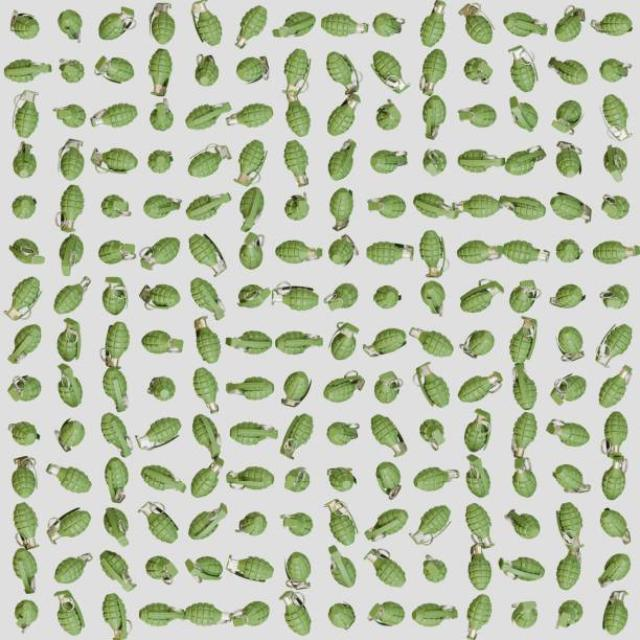grenade: (188, 233, 233, 280), (411, 361, 454, 410), (45, 507, 95, 549), (362, 547, 411, 589), (279, 413, 317, 462), (46, 462, 96, 499), (370, 413, 410, 459), (224, 553, 278, 587), (186, 502, 229, 544), (225, 462, 277, 496), (361, 326, 409, 361), (54, 362, 88, 411), (192, 315, 223, 367), (191, 366, 223, 416), (223, 375, 279, 403), (368, 238, 418, 267), (276, 240, 327, 267), (54, 418, 90, 456), (328, 321, 361, 361), (458, 330, 498, 362), (234, 510, 271, 540), (419, 419, 449, 453), (373, 285, 407, 309)
